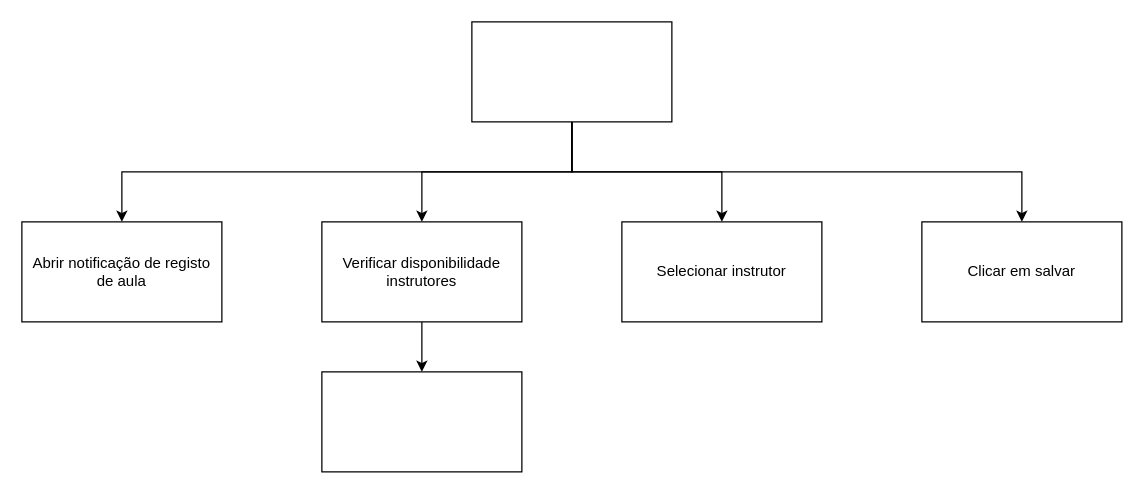
Image size: 1144x494. Some labels were removed from this diagram. Each missing label, with the box of its shape:
Abrir aba instrutores: (321, 371, 522, 472)
Atribuir um aluno a um instrutor: (471, 21, 672, 122)
